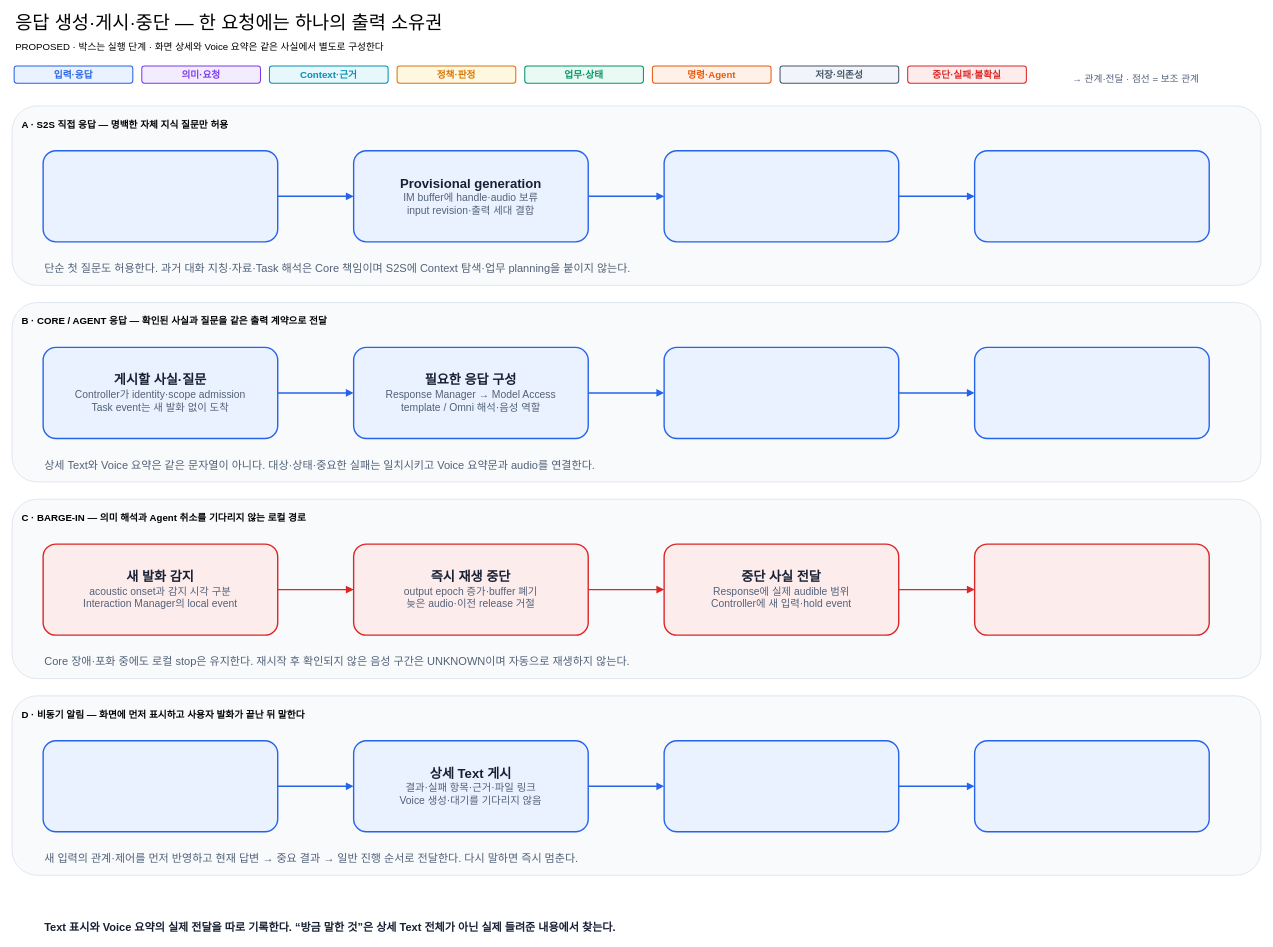
This 1273x947 diagram has some shape labels left out. The shapes that lost their labels are listed below. From the top down, each one's centre as x and y in pixels, then its label:
At [160,196]: "입력 stream Interaction Manager → Model Access ASR 입력 근거 + 공유 Omni 음성 역할".
At [781,196]: "Controller admission 좁은 direct 허용 / 나머지는 Core VoiceProposal + host 허용 검사".
At [1092,196]: "Response Manager publication 기록 후 handle release IM에서만 실제 표시·재생".
At [781,392]: "Publication outbox 내용·source·version·출력 세대 확정 payload와 생성 내용 검사".
At [1092,392]: "Interaction Manager 상세 Text 표시 · Voice는 차례 대기 채널별 실제 전달 receipt 반환".
At [1092,589]: "새 요청 해석 정정 / 새 질문 / 업무 취소 구분 재개 의도가 불명확할 때만 확인".
At [160,786]: "Agent 결과 확인 Task·Controller가 상태·결과 연결 실패·완료·입력 필요를 보존".
At [781,786]: "Response 발화 대기열 사용자 발화 중 모든 음성 알림 보류 종료 뒤 새 입력과 충돌 여부 확인".
At [1092,786]: "짧은 Voice 요약 IM이 재생 직전 차례·epoch 검사 중요한 실패·불확실성 생략 금지".
